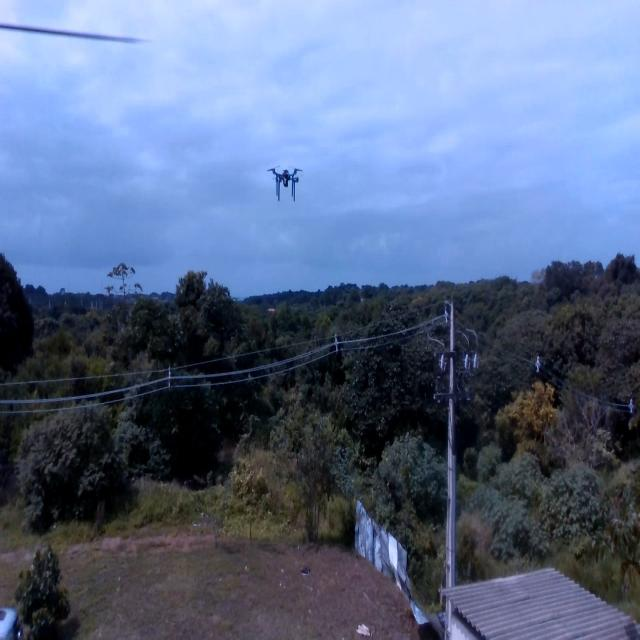-uav-: (260, 157, 312, 216)
